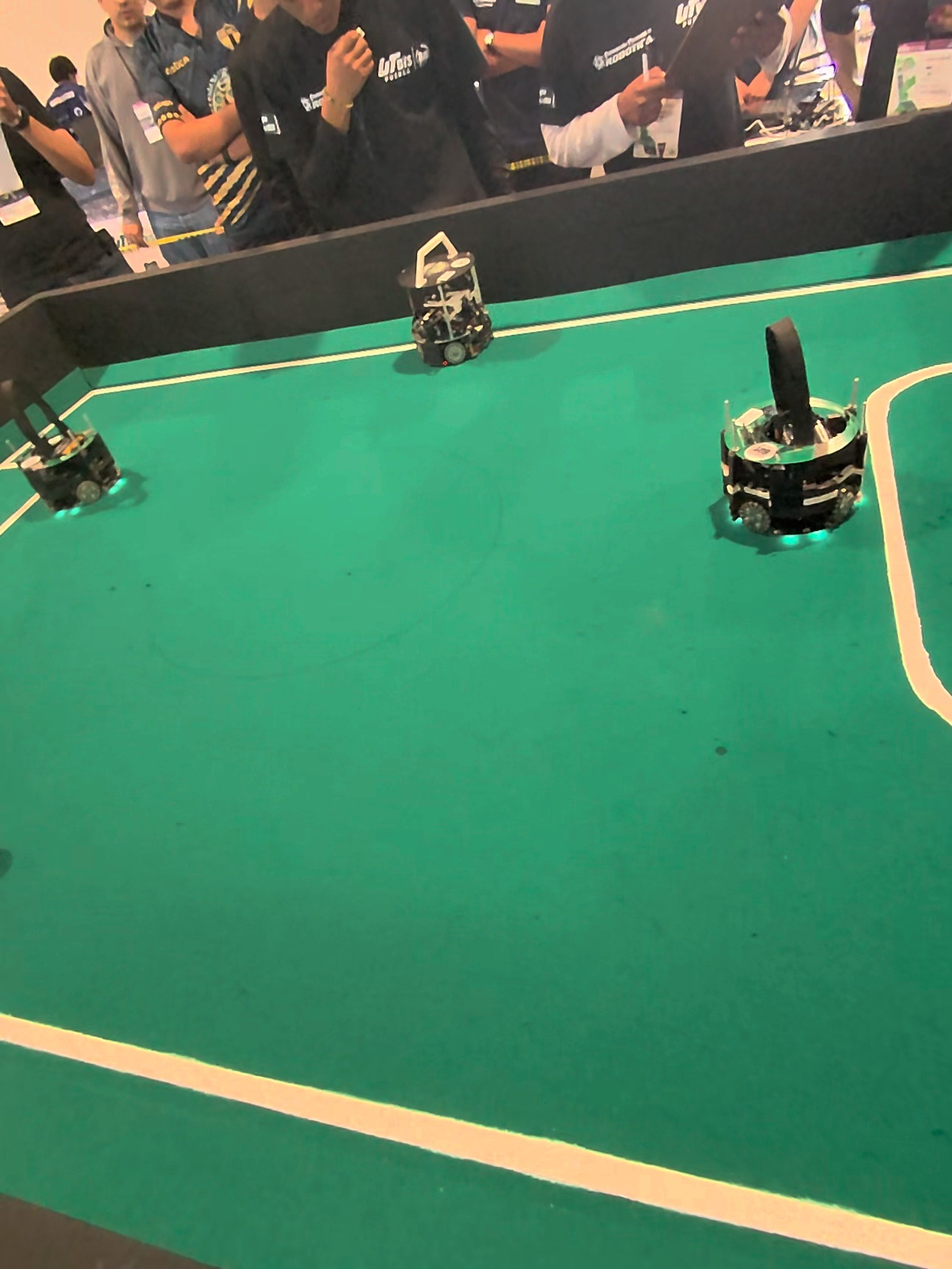Robot: (725, 305, 866, 563), (11, 403, 146, 527), (400, 222, 498, 371)
